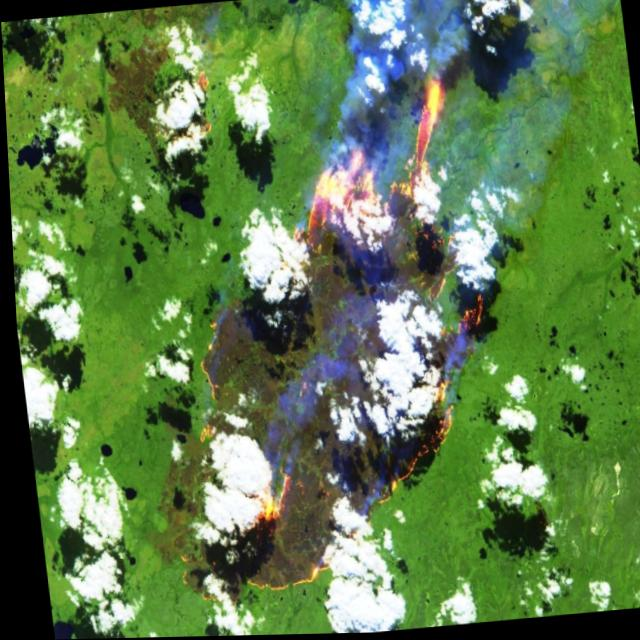fire: (122, 65, 515, 610)
